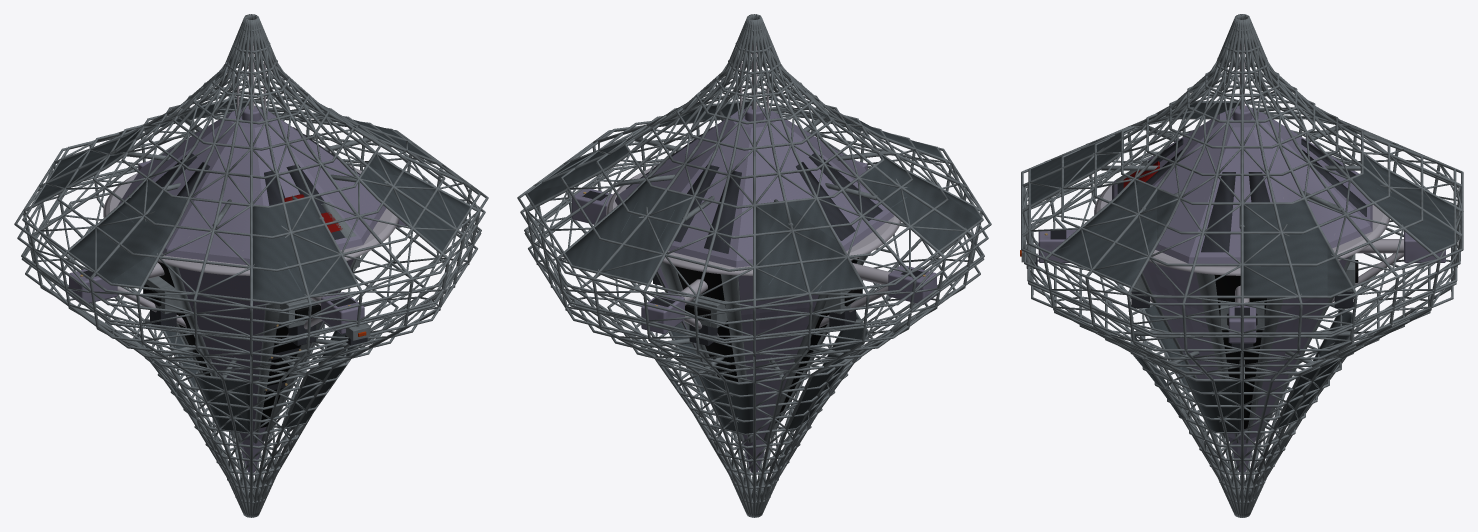
3 renders of one model, left to right at view 1: azimuth 30°, elevation 25°; view 2: azimuth 150°, elevation 25°; view 3: azimuth 270°, elevation 25°, orthographic.
Parts seen in each view (by area): view 1: Space Dock construction horizontal frames, Space Dock construction longitudinal girders, Space Dock construction diagonal lattice, Space Dock pyramidal upper hull, Space Dock temporary shield 8, Space Dock temporary shield 6, Space Dock lower tapered hull, Space Dock temporary shield 10, Space Dock equatorial rim, Space Dock temporary shield 4, Space Dock temporary shield 7, Space Dock construction body support stays (+8 smaller); view 2: Space Dock construction horizontal frames, Space Dock construction longitudinal girders, Space Dock construction diagonal lattice, Space Dock pyramidal upper hull, Space Dock temporary shield 4, Space Dock temporary shield 2, Space Dock lower tapered hull, Space Dock temporary shield 6, Space Dock equatorial rim, Space Dock construction body support stays, Space Dock temporary shield 0, Space Dock temporary shield 3 (+13 smaller); view 3: Space Dock construction longitudinal girders, Space Dock construction horizontal frames, Space Dock construction diagonal lattice, Space Dock pyramidal upper hull, Space Dock temporary shield 0, Space Dock lower tapered hull, Space Dock temporary shield 10, Space Dock temporary shield 2, Space Dock temporary shield 8, Space Dock equatorial rim, Space Dock temporary shield 11, Space Dock broad dark lower face 1 (+10 smaller).
Boxes of the visible parts, <box> form: Space Dock construction horizontal frames: <box>14,25,488,503</box>; Space Dock construction longitudinal girders: <box>23,14,480,517</box>; Space Dock construction diagonal lattice: <box>23,31,478,500</box>; Space Dock pyramidal upper hull: <box>117,109,386,264</box>; Space Dock temporary shield 8: <box>252,198,355,302</box>; Space Dock temporary shield 6: <box>69,180,186,286</box>; Space Dock lower tapered hull: <box>178,259,353,472</box>; Space Dock temporary shield 10: <box>359,155,469,251</box>; Space Dock equatorial rim: <box>103,165,398,275</box>; Space Dock temporary shield 4: <box>34,128,144,203</box>; Space Dock temporary shield 7: <box>196,377,249,432</box>; Space Dock construction body support stays: <box>114,111,388,380</box>; Space Dock construction horizontal frames: <box>517,25,991,503</box>; Space Dock construction longitudinal girders: <box>525,14,982,517</box>; Space Dock construction diagonal lattice: <box>527,31,982,500</box>; Space Dock pyramidal upper hull: <box>615,109,893,267</box>; Space Dock temporary shield 4: <box>756,199,862,298</box>; Space Dock temporary shield 2: <box>565,180,691,283</box>; Space Dock lower tapered hull: <box>657,266,818,472</box>; Space Dock temporary shield 6: <box>861,153,981,249</box>; Space Dock equatorial rim: <box>606,165,901,275</box>; Space Dock construction body support stays: <box>617,111,891,380</box>; Space Dock temporary shield 0: <box>527,138,634,204</box>; Space Dock temporary shield 3: <box>701,376,753,433</box>; Space Dock construction longitudinal girders: <box>1021,14,1462,517</box>; Space Dock construction horizontal frames: <box>1021,27,1463,503</box>; Space Dock construction diagonal lattice: <box>1022,32,1461,500</box>; Space Dock pyramidal upper hull: <box>1112,108,1372,263</box>; Space Dock temporary shield 0: <box>1243,200,1350,295</box>; Space Dock lower tapered hull: <box>1142,257,1348,471</box>; Space Dock temporary shield 10: <box>1054,181,1177,285</box>; Space Dock temporary shield 2: <box>1352,154,1453,251</box>; Space Dock temporary shield 8: <box>1030,127,1134,204</box>; Space Dock equatorial rim: <box>1094,182,1389,275</box>; Space Dock temporary shield 11: <box>1186,377,1240,431</box>; Space Dock broad dark lower face 1: <box>1214,275,1266,428</box>.
Size of the model in its own units: 4 by 4.96 by 4.01.
Materials: 12 (9 with a texture image).
